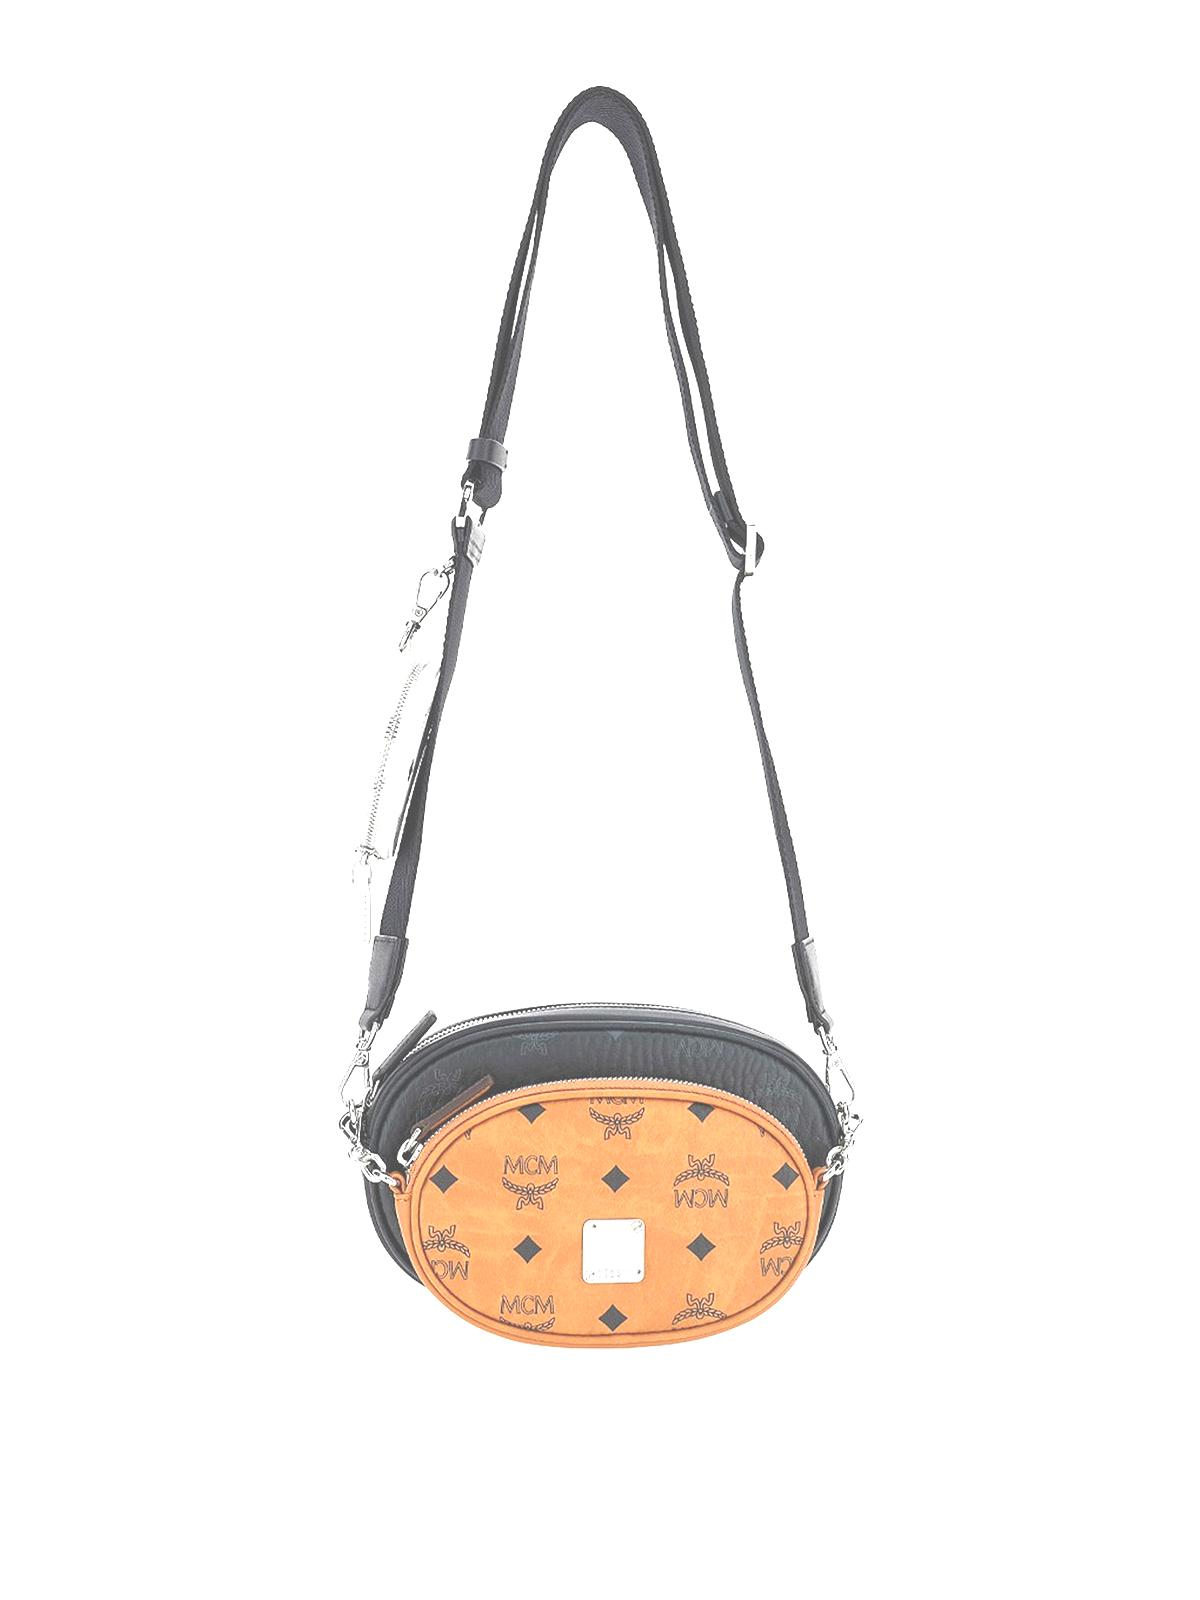MCM: (357, 1007, 846, 1378)
